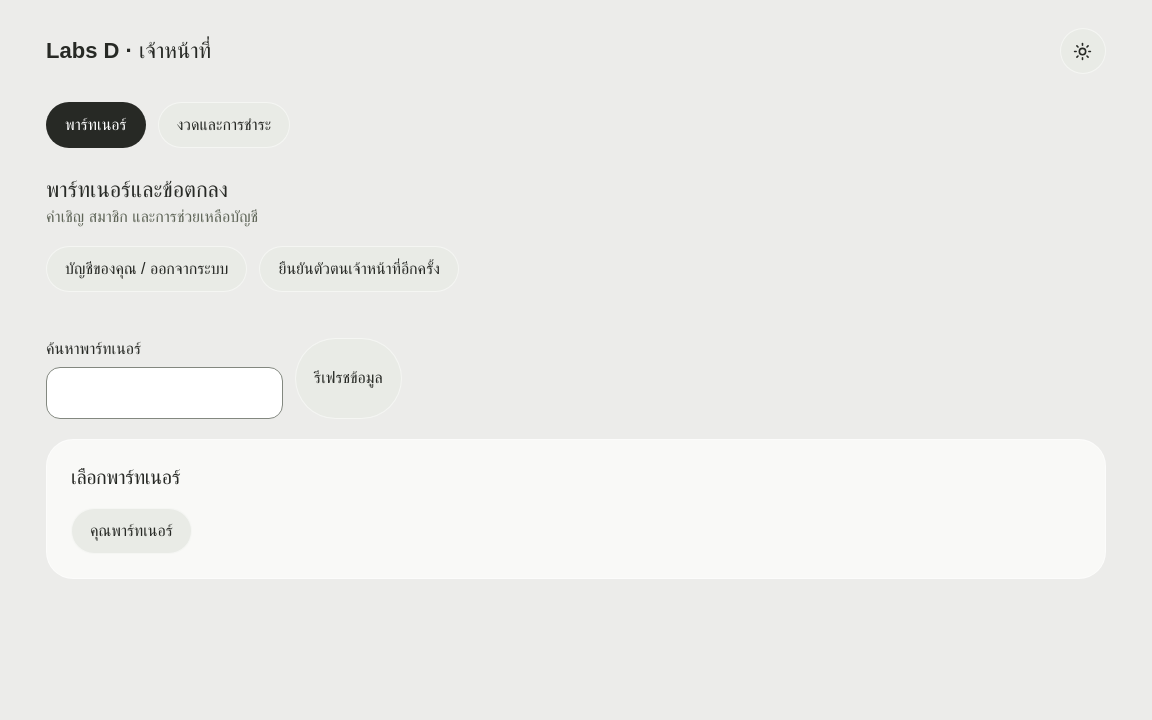
Test: staff access UI › searches as typing, hides old choices immediately and resets selection and paging
Click the button "คุณพาร์ทเนอร์" at (131, 531), box top-left (71, 508), bottom-right (192, 554)
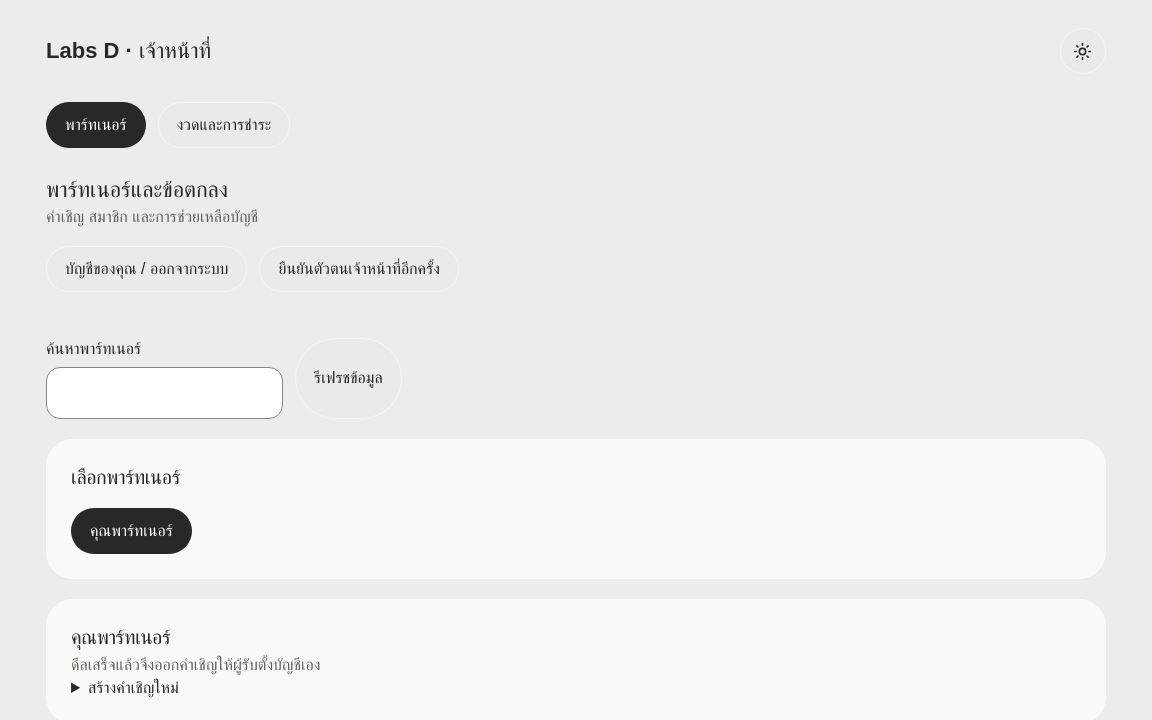
expect the heading "สร้างคำเชิญใหม่" is shown: met, box top-left (88, 679), bottom-right (179, 696)
Type " มด " into the search field labelled "ค้นหาพาร์ทเนอร์" at (165, 393), box top-left (46, 367), bottom-right (283, 419)
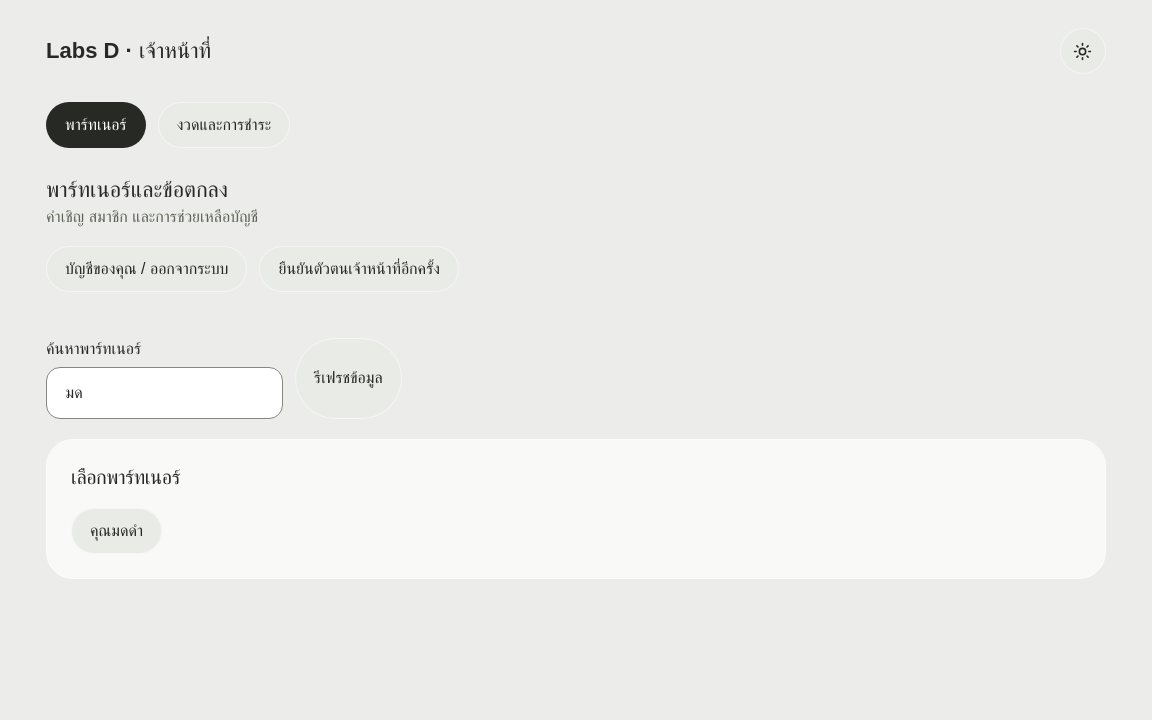
expect the button "คุณพาร์ทเนอร์" is gone: met
expect the heading "สร้างคำเชิญใหม่" is gone: met
expect the button "คุณมดดำ" is shown: met, box top-left (71, 508), bottom-right (162, 554)
Clear the search field labelled "ค้นหาพาร์ทเนอร์" at (165, 393), box top-left (46, 367), bottom-right (283, 419)
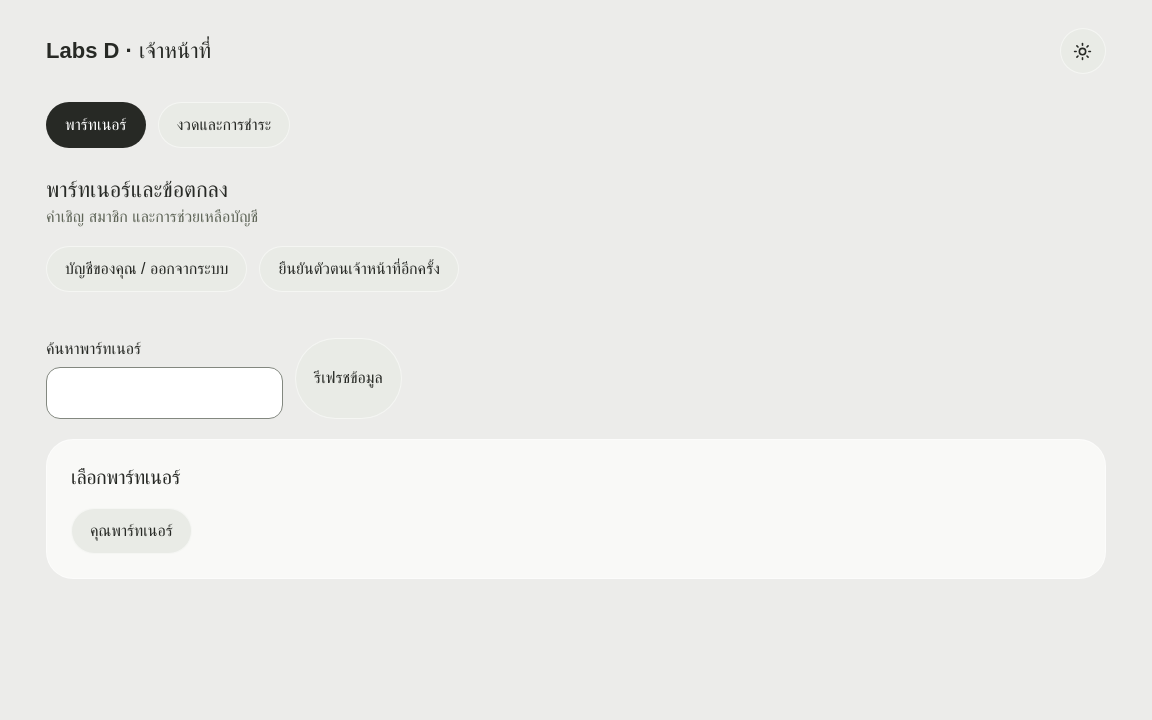
expect the button "คุณพาร์ทเนอร์" is shown: met, box top-left (71, 508), bottom-right (192, 554)
